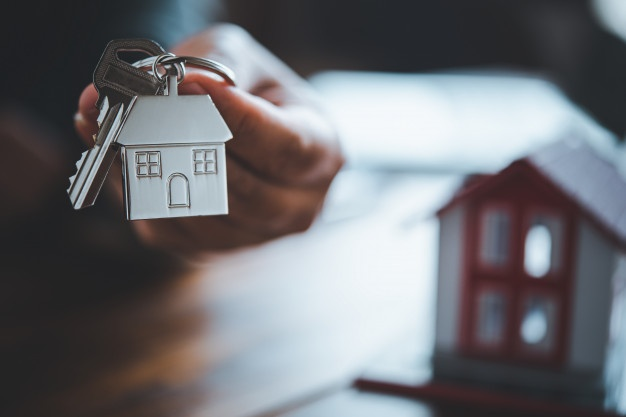key: (65, 37, 176, 212)
